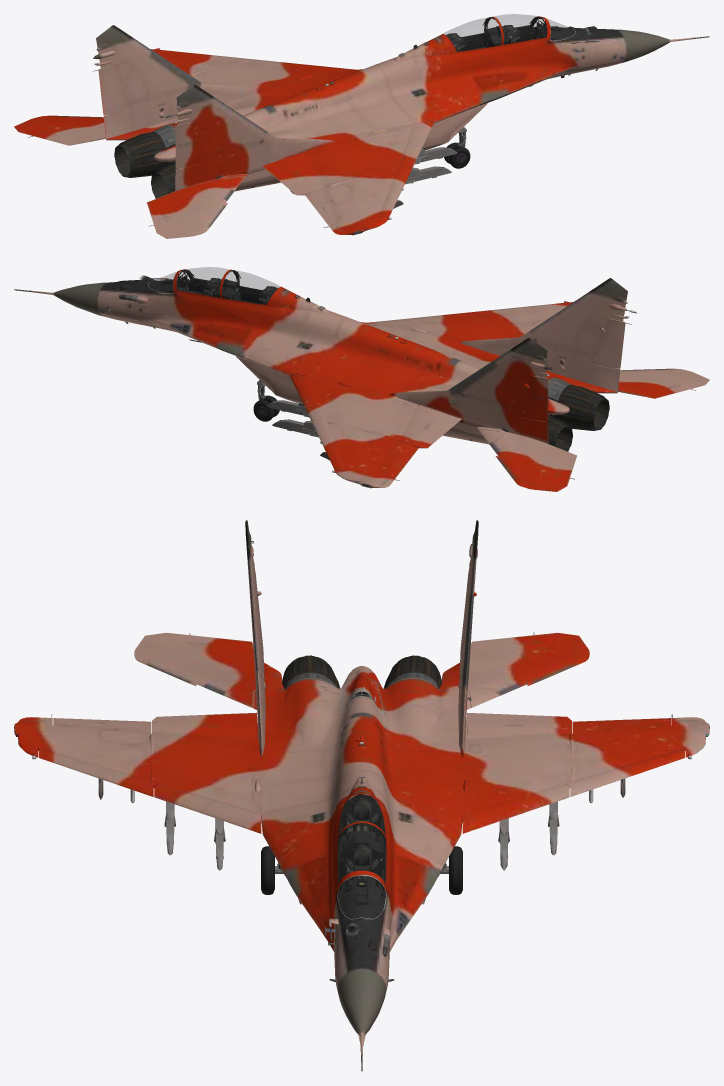
3 views of the same model, one above another, from view 1: azimuth 30°, elevation 25°; view 2: azimuth 150°, elevation 25°; view 3: azimuth 270°, elevation 25° (orthographic). The views are drawn at different scales.
Parts seen in each view (by area): view 1: Object_41, Object_35, Object_32, Object_8, Object_20; view 2: Object_41, Object_35, Object_32, Object_8, Object_20; view 3: Object_41, Object_32, Object_35, Object_8, Object_38, Object_20.
Part boxes in pixels (left/top/right/bottom): Object_41: left=14, top=16, right=709, bottom=238; Object_35: left=443, top=14, right=546, bottom=51; Object_32: left=445, top=17, right=575, bottom=51; Object_8: left=405, top=147, right=457, bottom=184; Object_20: left=444, top=127, right=470, bottom=168; Object_41: left=14, top=269, right=709, bottom=491; Object_35: left=177, top=267, right=280, bottom=304; Object_32: left=148, top=270, right=278, bottom=304; Object_8: left=266, top=400, right=318, bottom=437; Object_20: left=253, top=380, right=279, bottom=421; Object_41: left=14, top=520, right=709, bottom=1071; Object_32: left=338, top=794, right=385, bottom=918; Object_35: left=336, top=794, right=387, bottom=882; Object_8: left=164, top=801, right=559, bottom=870; Object_38: left=338, top=876, right=385, bottom=918; Object_20: left=261, top=846, right=462, bottom=894.
Bounding box in the file's own units: 176 × 49.95 × 120.
4 materials, 2 textured.
